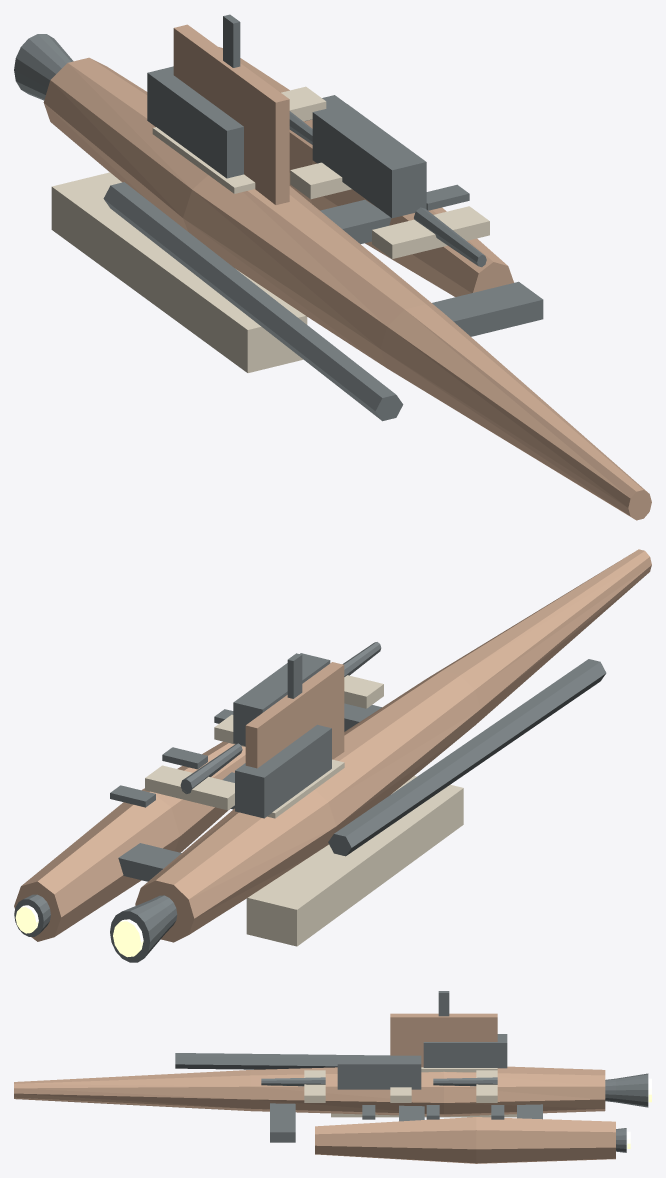
3 views of the same model, one above another, from view 1: azimuth 30°, elevation 25°; view 2: azimuth 150°, elevation 25°; view 3: azimuth 270°, elevation 25° (orthographic). The views are drawn at different scales.
Size of the model in its own units: 4.98 by 4.31 by 18.3.
